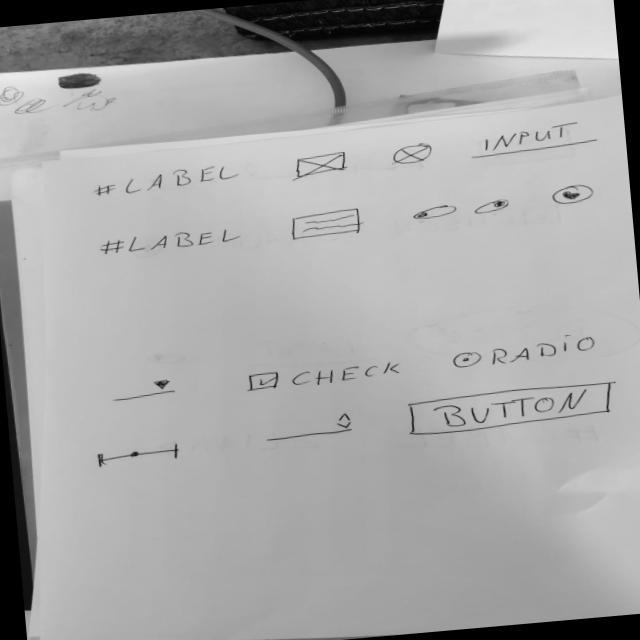button: (401, 379, 617, 438)
checkbox: (245, 358, 404, 393)
icon-button: (550, 182, 596, 205)
image: (290, 149, 350, 178), (388, 140, 436, 166)
input: (464, 117, 602, 159)
label: (90, 162, 243, 199), (95, 225, 245, 258)
number-input: (260, 411, 358, 444)
radio: (448, 331, 599, 371)
select: (109, 377, 180, 402)
slider: (94, 441, 182, 468)
textarea: (286, 206, 366, 240)
toggle: (410, 203, 458, 220), (472, 197, 511, 214)
